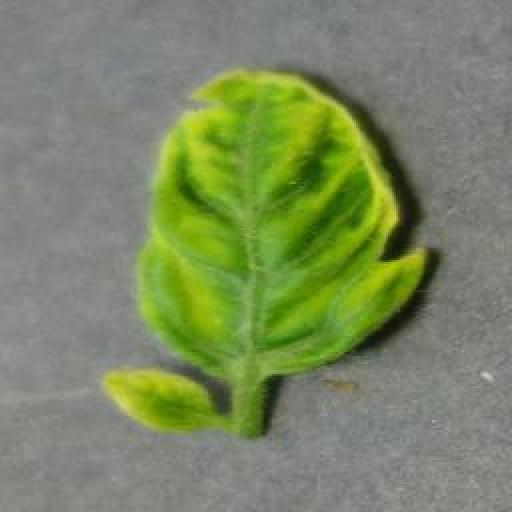disease_tomato: (140, 68, 435, 380), (99, 365, 220, 443)
